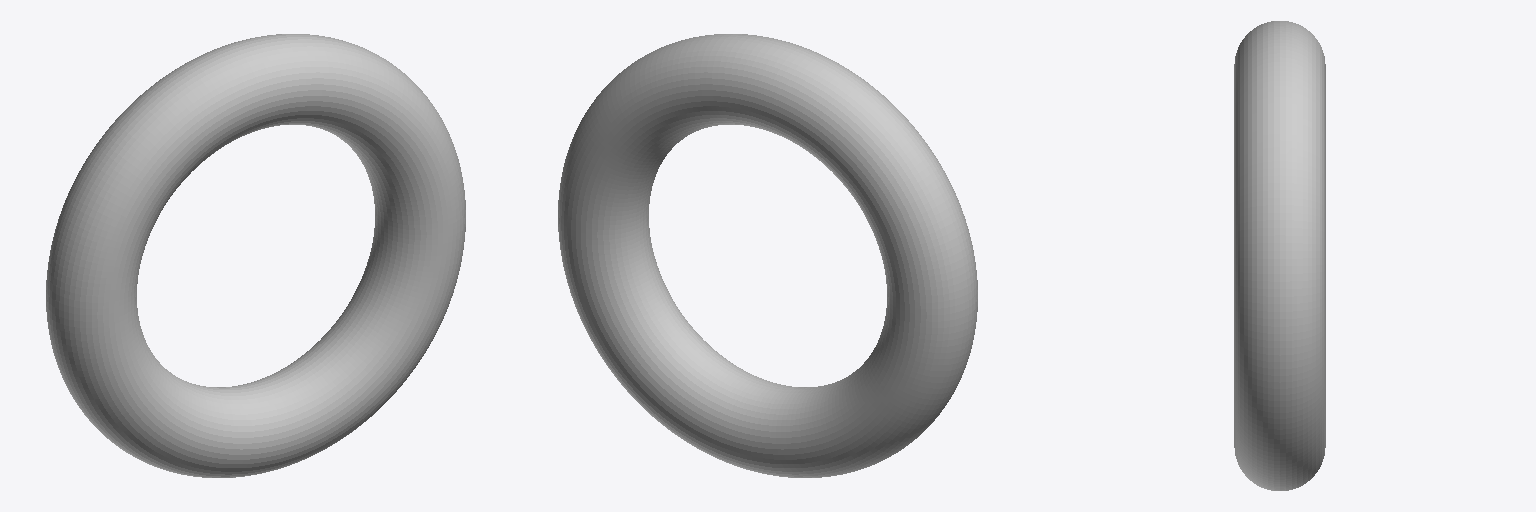
Rendered from torusVerySmall.obj.
The picture shows the model from 3 angles: view 1: azimuth 30°, elevation 25°; view 2: azimuth 150°, elevation 25°; view 3: azimuth 270°, elevation 25°; orthographic projection.
Visible parts, largest first — view 1: BigTorus_Torus.001; view 2: BigTorus_Torus.001; view 3: BigTorus_Torus.001.
Boxes of the visible parts, x1,y1,x2,y2 form: BigTorus_Torus.001: [46, 34, 465, 477]; BigTorus_Torus.001: [558, 34, 977, 477]; BigTorus_Torus.001: [1234, 21, 1325, 490].
Bounding box in the file's own units: 0.6181 × 0.6181 × 0.1198.